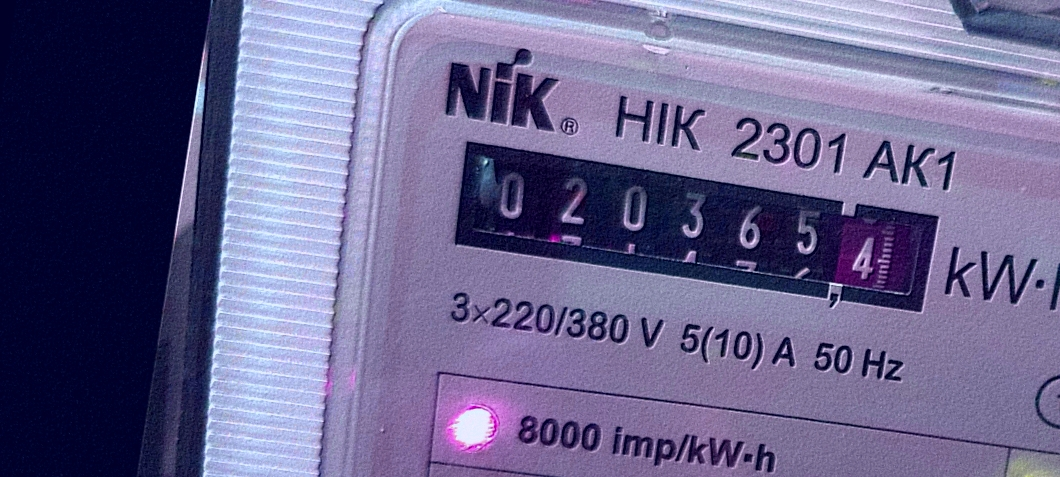0: (492, 166, 533, 226), (617, 182, 654, 236)
2: (556, 173, 594, 228)
3: (676, 190, 712, 243)
4: (849, 231, 879, 283)
5: (792, 208, 826, 258)
6: (734, 199, 768, 253)
screen: (435, 122, 958, 337)
